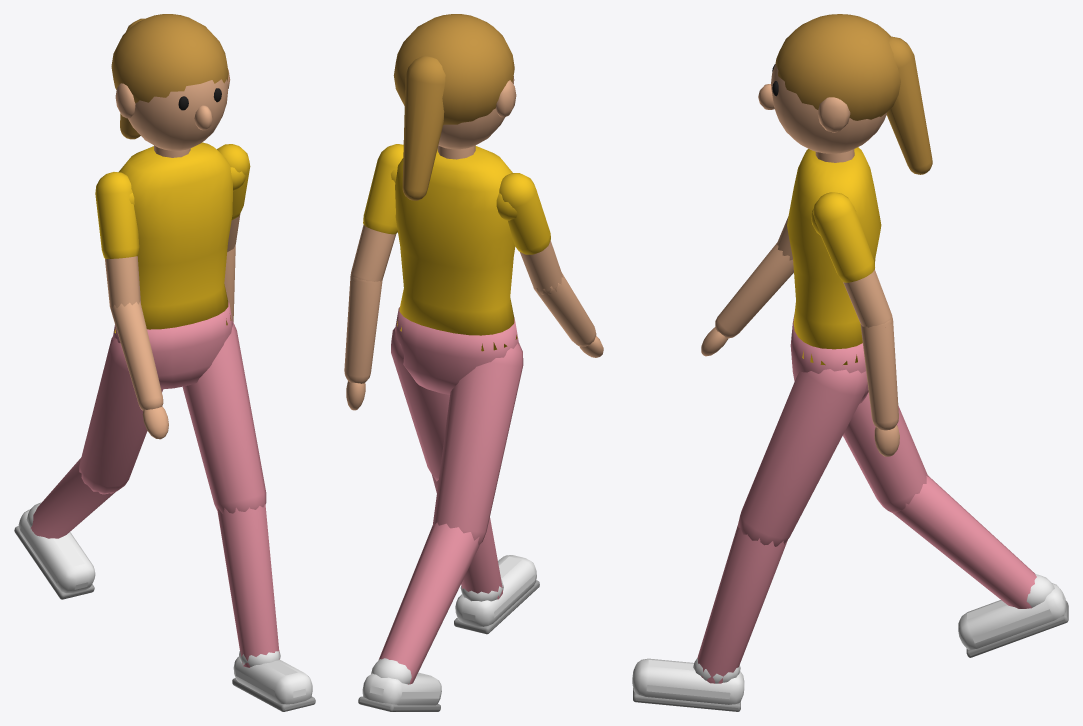
File: kid_yellow.fbx
The picture shows the model from 3 angles, left to right: view 1: azimuth 30°, elevation 25°; view 2: azimuth 150°, elevation 25°; view 3: azimuth 270°, elevation 25°; orthographic projection. The views are drawn at different scales.
Visible parts, largest first — view 1: kid_yellow; view 2: kid_yellow; view 3: kid_yellow.
Part boxes in pixels (<box>): kid_yellow: <box>14,14,315,711</box>; kid_yellow: <box>344,14,603,711</box>; kid_yellow: <box>632,14,1068,711</box>.
Size of the model in its own units: 0.3089 by 1.12 by 0.6618.
